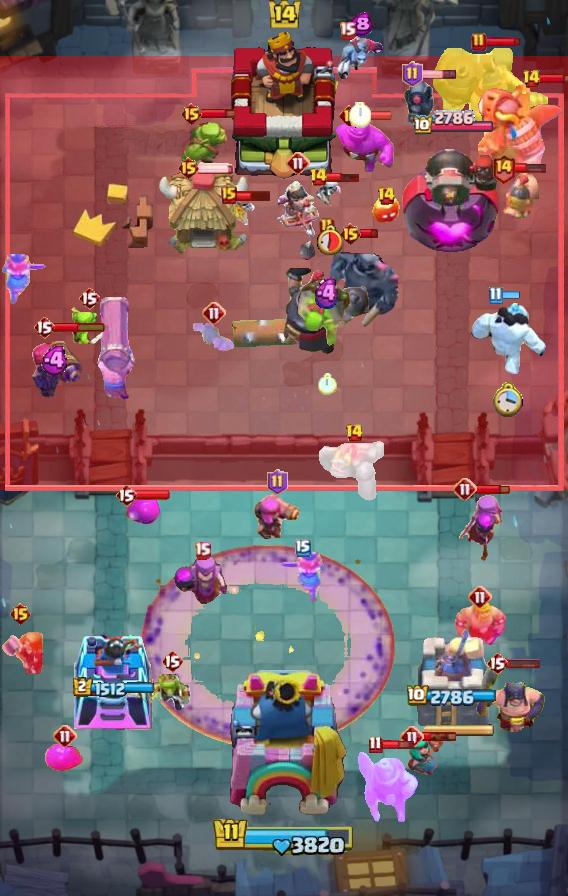bar: (53, 321, 106, 333), (235, 189, 272, 202), (197, 162, 235, 174), (380, 738, 415, 751), (201, 107, 236, 120), (505, 657, 541, 669), (135, 489, 171, 501), (475, 483, 510, 495), (420, 69, 457, 80), (485, 36, 522, 47), (325, 172, 361, 183), (513, 162, 546, 174), (357, 110, 393, 121), (422, 731, 457, 742), (539, 72, 568, 85), (501, 290, 520, 301), (360, 228, 379, 239)
bar-level: (491, 153, 516, 184), (400, 725, 424, 749), (53, 724, 77, 748), (468, 585, 492, 609), (453, 477, 477, 501), (202, 301, 226, 325), (286, 151, 310, 175), (9, 602, 32, 626), (339, 222, 362, 246), (177, 156, 200, 180), (180, 102, 203, 126), (267, 469, 288, 495), (402, 61, 423, 87), (486, 651, 508, 675), (161, 649, 183, 673), (115, 483, 137, 507), (33, 315, 55, 339), (78, 286, 100, 310), (339, 105, 360, 126), (345, 423, 364, 443), (377, 186, 396, 206), (309, 167, 328, 187), (522, 69, 541, 89), (194, 541, 211, 560), (339, 21, 356, 40), (319, 217, 335, 237), (471, 32, 487, 52), (295, 539, 311, 557), (221, 186, 237, 204), (368, 735, 383, 754), (488, 286, 503, 305)
barbarian: (452, 600, 508, 650)
bat-evolution: (192, 322, 236, 352)
cannoneer-tower: (401, 138, 505, 256)
clock: (493, 380, 525, 417), (316, 224, 342, 255), (349, 102, 371, 128), (318, 373, 337, 395)
dagger-duchess-tower: (414, 623, 492, 731)
dagger-duchess-tower-bar: (423, 724, 495, 738)
elixir: (312, 277, 343, 310), (41, 346, 71, 375), (348, 12, 373, 37)
elixir-golem-mid: (327, 118, 395, 174)
elixir-golem-small: (45, 744, 85, 772), (125, 496, 161, 526)
executioner: (476, 660, 546, 736)
fire-spirit: (372, 194, 400, 226)
firecracker: (251, 489, 303, 543)
firecracker-evolution: (28, 325, 84, 401)
goblin: (151, 670, 193, 714), (71, 307, 107, 344)
goblin-ball: (295, 278, 353, 350)
goblin-brawler: (177, 119, 233, 177)
golemite: (319, 437, 389, 503)
king-tower: (219, 670, 349, 826), (222, 31, 346, 181)
king-tower-bar: (212, 816, 356, 858)
miner: (356, 748, 420, 826)
mini-pekka: (401, 78, 451, 132)
minion: (334, 34, 386, 80)
mother-witch: (458, 492, 506, 564), (173, 553, 231, 609)
princess: (274, 180, 322, 242)
queen-tower: (73, 623, 155, 731)
rascal-girl: (407, 733, 447, 777)
royal-hog: (502, 171, 542, 223)
skeleton: (228, 195, 256, 229), (316, 177, 342, 206)
the-log: (231, 313, 331, 349)
tower-bar: (412, 110, 495, 137), (407, 685, 499, 708), (73, 677, 156, 698)
valkyrie: (279, 550, 327, 604), (0, 252, 48, 306), (0, 631, 46, 677)
